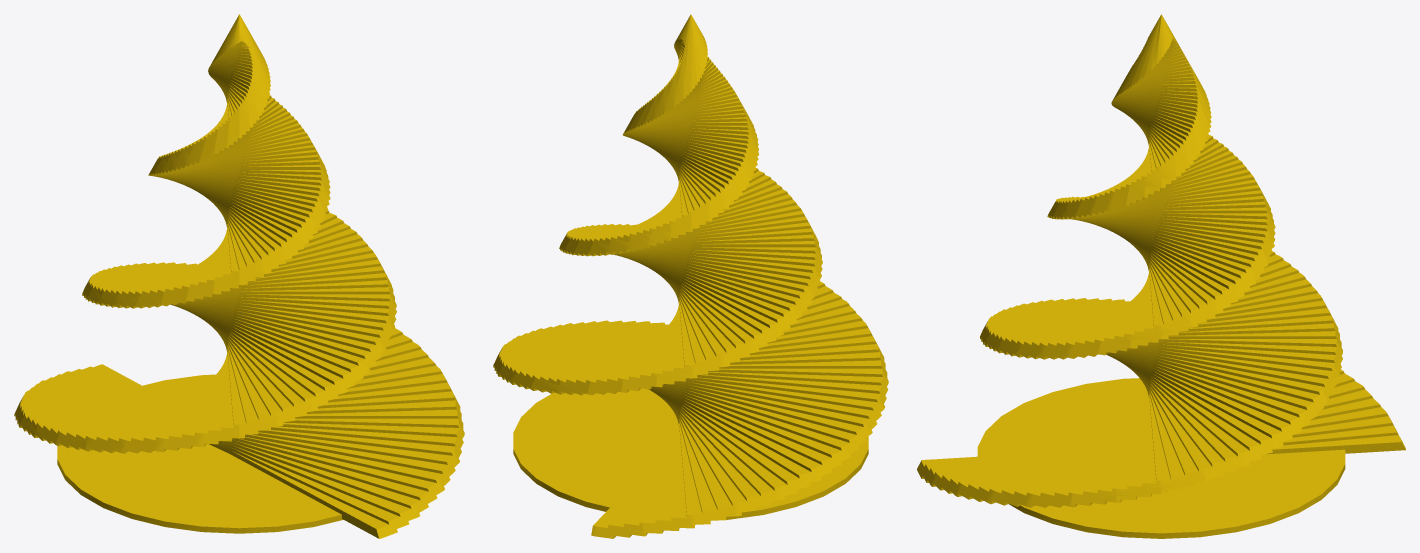
Rendered from amarillo.gltf.
3 renders of one model, left to right at view 1: azimuth 30°, elevation 25°; view 2: azimuth 150°, elevation 25°; view 3: azimuth 270°, elevation 25°, orthographic. The views are drawn at different scales.
Parts seen in each view (by area): view 1: Mesh_0; view 2: Mesh_0; view 3: Mesh_0.
Boxes of the visible parts, left/top/right/bottom form: Mesh_0: left=14, top=14, right=464, bottom=538; Mesh_0: left=493, top=14, right=888, bottom=538; Mesh_0: left=917, top=14, right=1405, bottom=538.
Size of the model in its own units: 6.99 by 8 by 7.93.
